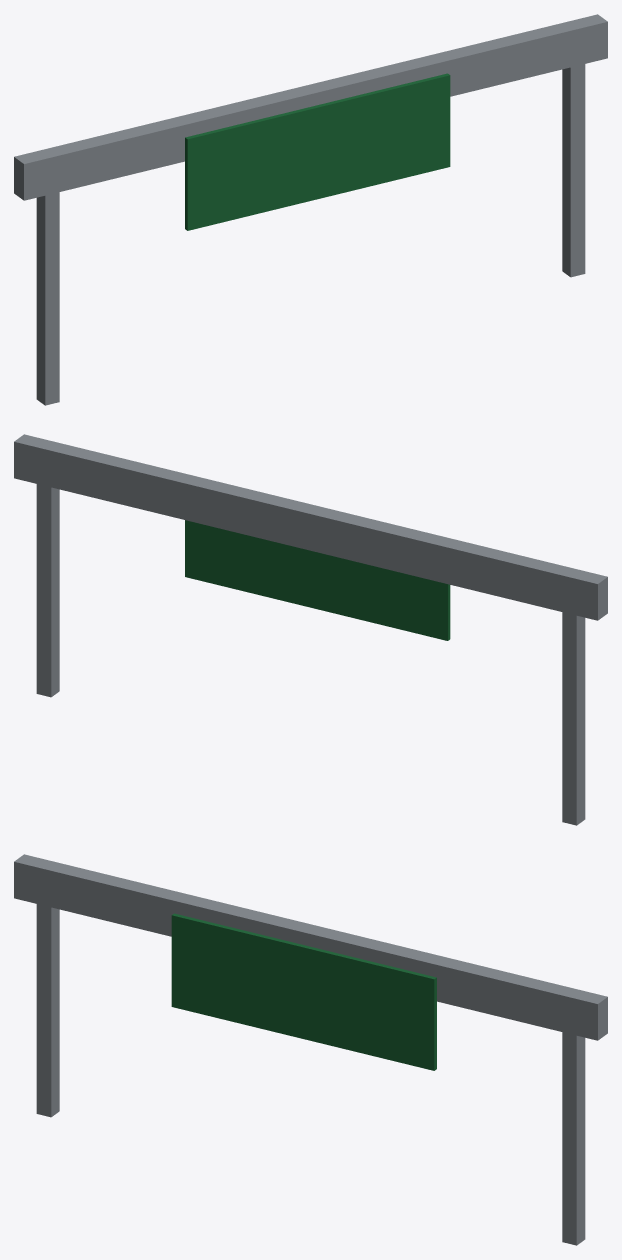
The model's file is d-us-06-highway-sign-gantry.glb.
3 renders of one model, top to bottom at view 1: azimuth 30°, elevation 25°; view 2: azimuth 150°, elevation 25°; view 3: azimuth 330°, elevation 25°, orthographic.
Parts seen in each view (by area): view 1: part3, part2, part1, part0; view 2: part2, part3, part1, part0; view 3: part3, part2, part0, part1.
Part boxes in pixels (box(x1,y1,x2,y2)): part3: box(185, 73, 450, 230); part2: box(14, 14, 607, 200); part1: box(562, 64, 585, 277); part0: box(36, 192, 59, 405); part2: box(14, 434, 607, 620); part3: box(185, 520, 450, 640); part1: box(36, 484, 59, 697); part0: box(562, 612, 585, 825); part3: box(171, 913, 436, 1070); part2: box(14, 854, 607, 1040); part0: box(36, 904, 59, 1117); part1: box(562, 1032, 585, 1245).
Size of the model in its own units: 20000 by 8099 by 776.
